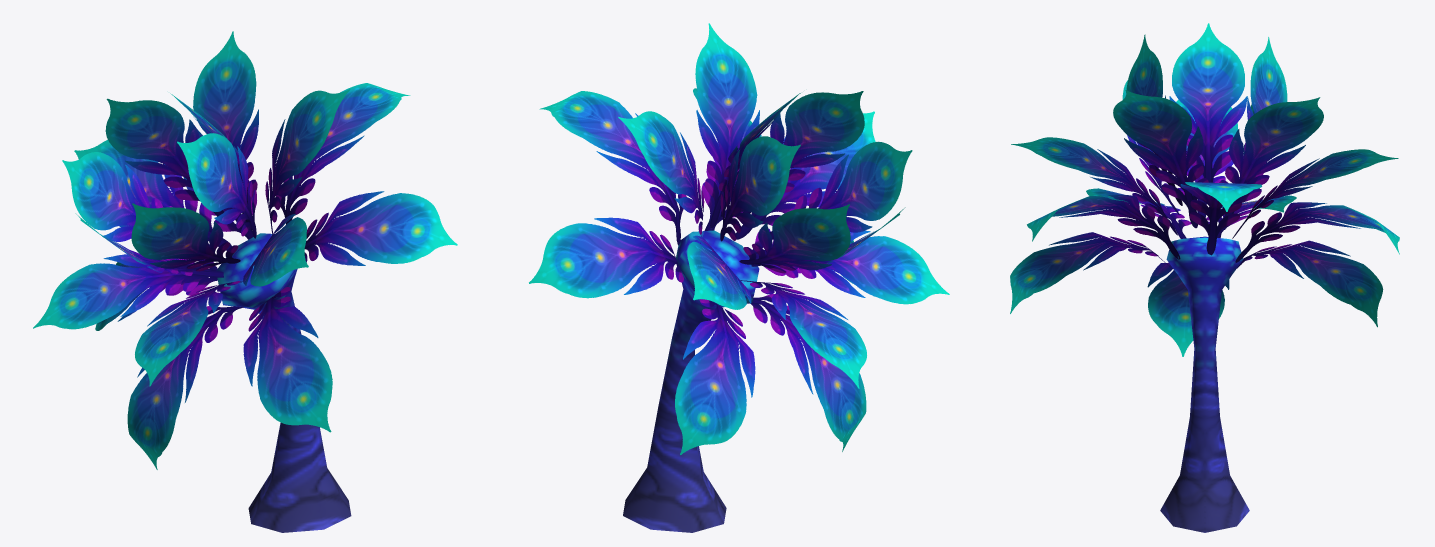
The model's file is Blue_Tree_08a.FBX.
3 views of the same model, side by side, from view 1: azimuth 30°, elevation 25°; view 2: azimuth 150°, elevation 25°; view 3: azimuth 270°, elevation 25° (orthographic). The views are drawn at different scales.
Parts seen in each view (by area): view 1: Blue_Tree_08a; view 2: Blue_Tree_08a; view 3: Blue_Tree_08a.
Boxes of the visible parts, x1=… form: Blue_Tree_08a: x1=33, y1=31, x2=457, y2=532; Blue_Tree_08a: x1=529, y1=23, x2=949, y2=532; Blue_Tree_08a: x1=1010, y1=23, x2=1399, y2=532.
Size of the model in its own units: 178 by 214 by 190.
